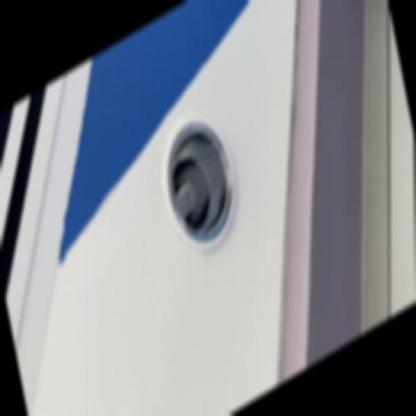light_off: (137, 65, 260, 286)
